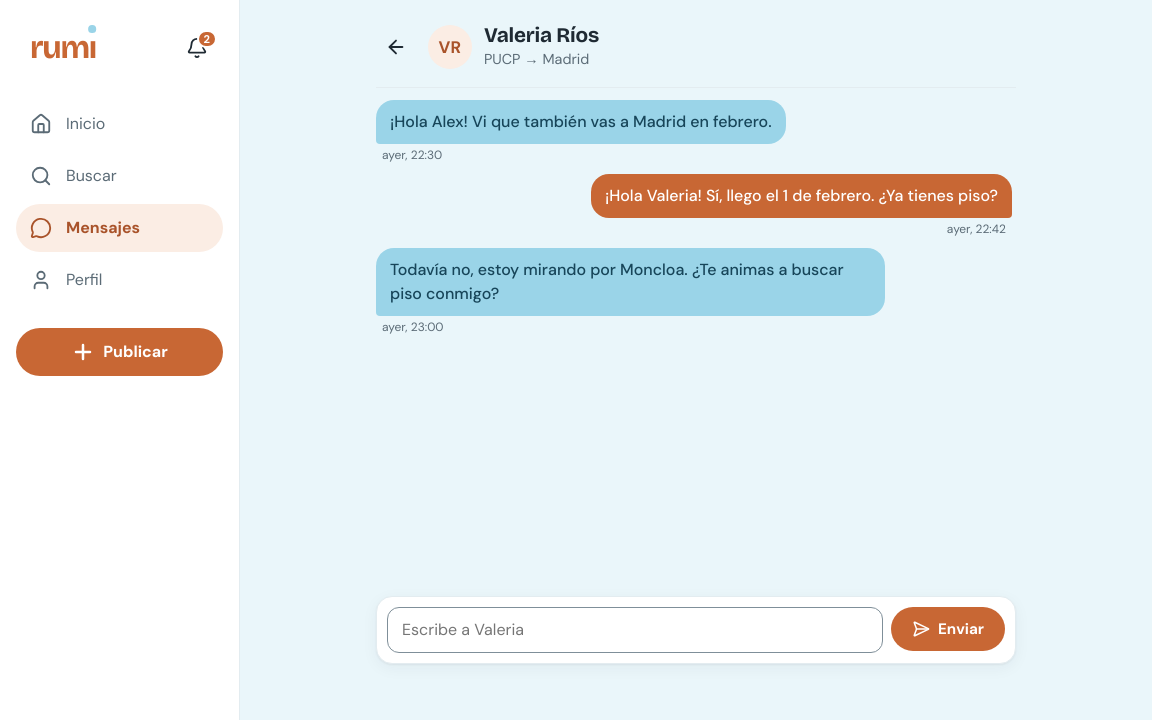
Scenario: volver lleva a la lista de mensajes
Click the link named "Volver". click: (396, 47)
box: 385,36 -> 407,58
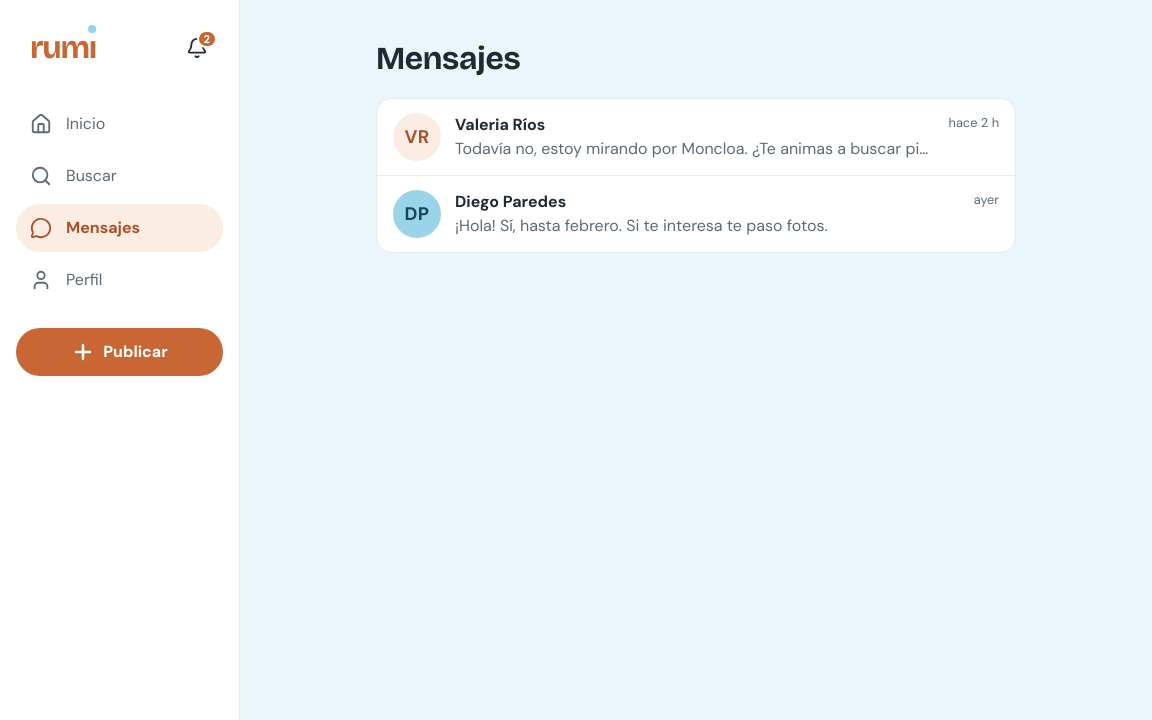
expect the heading "Mensajes" is shown: met, box 376,39 -> 520,78
